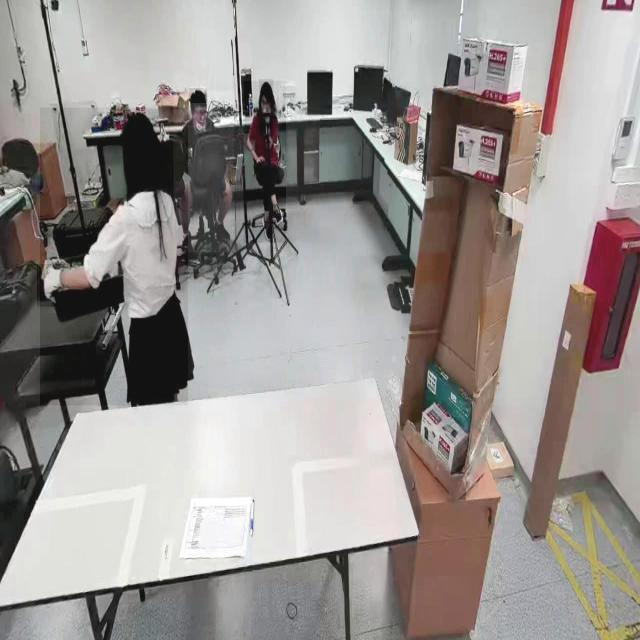hand_glove: (37, 264, 65, 308)
hand_noglove: (254, 153, 264, 163)
head_nohelmet: (120, 109, 160, 147), (189, 88, 207, 104), (259, 79, 274, 94)
person: (40, 108, 188, 406), (173, 91, 234, 253), (244, 81, 286, 243)
shoes: (213, 216, 231, 246), (261, 215, 275, 244), (270, 200, 285, 227)
